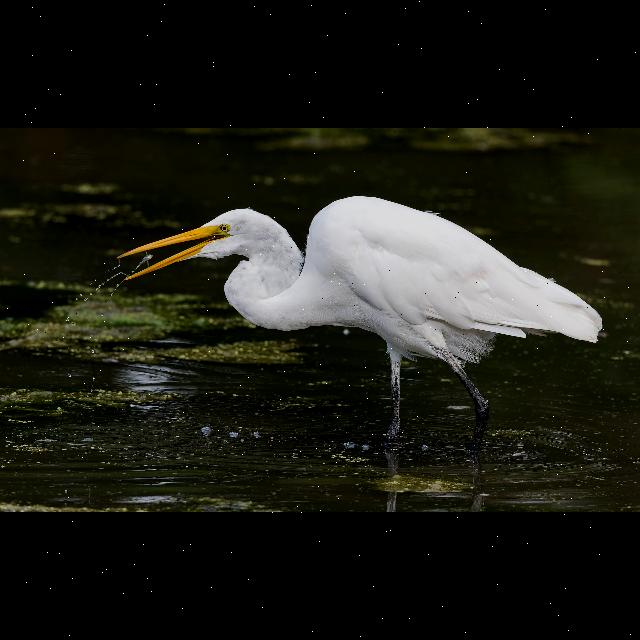egret: (110, 193, 608, 461)
